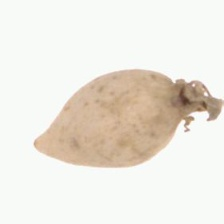L1: (169, 78, 219, 127), (33, 127, 59, 163)
L2: (33, 68, 215, 169)
